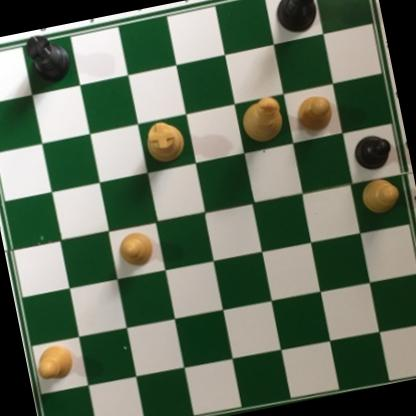black-king: (269, 0, 326, 40)
black-pawn: (349, 130, 395, 173)
black-rook: (21, 26, 75, 87)
white-king: (236, 93, 287, 149)
white-pawn: (291, 89, 336, 137), (358, 174, 403, 217), (32, 341, 76, 383), (115, 228, 157, 271)
white-rook: (140, 114, 188, 166)
